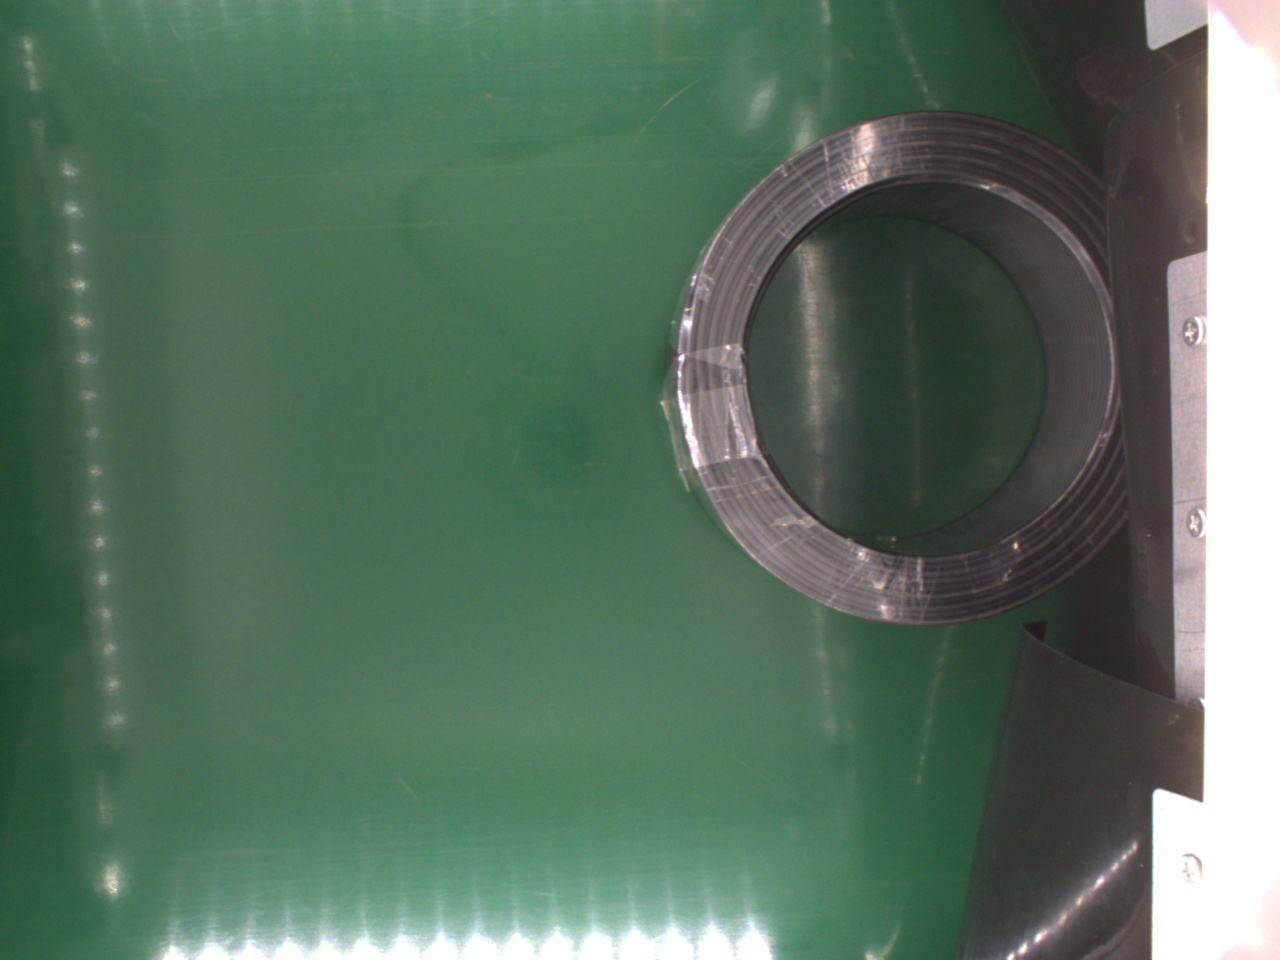black: (669, 115, 1136, 628)
